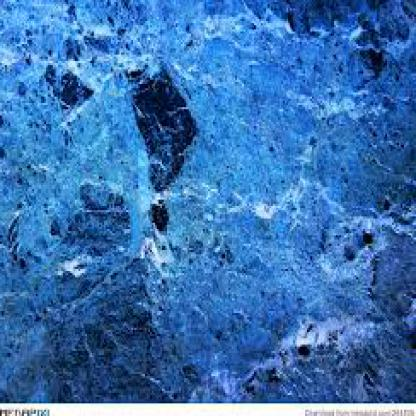Metamorphic_Marble: (0, 0, 415, 398)
